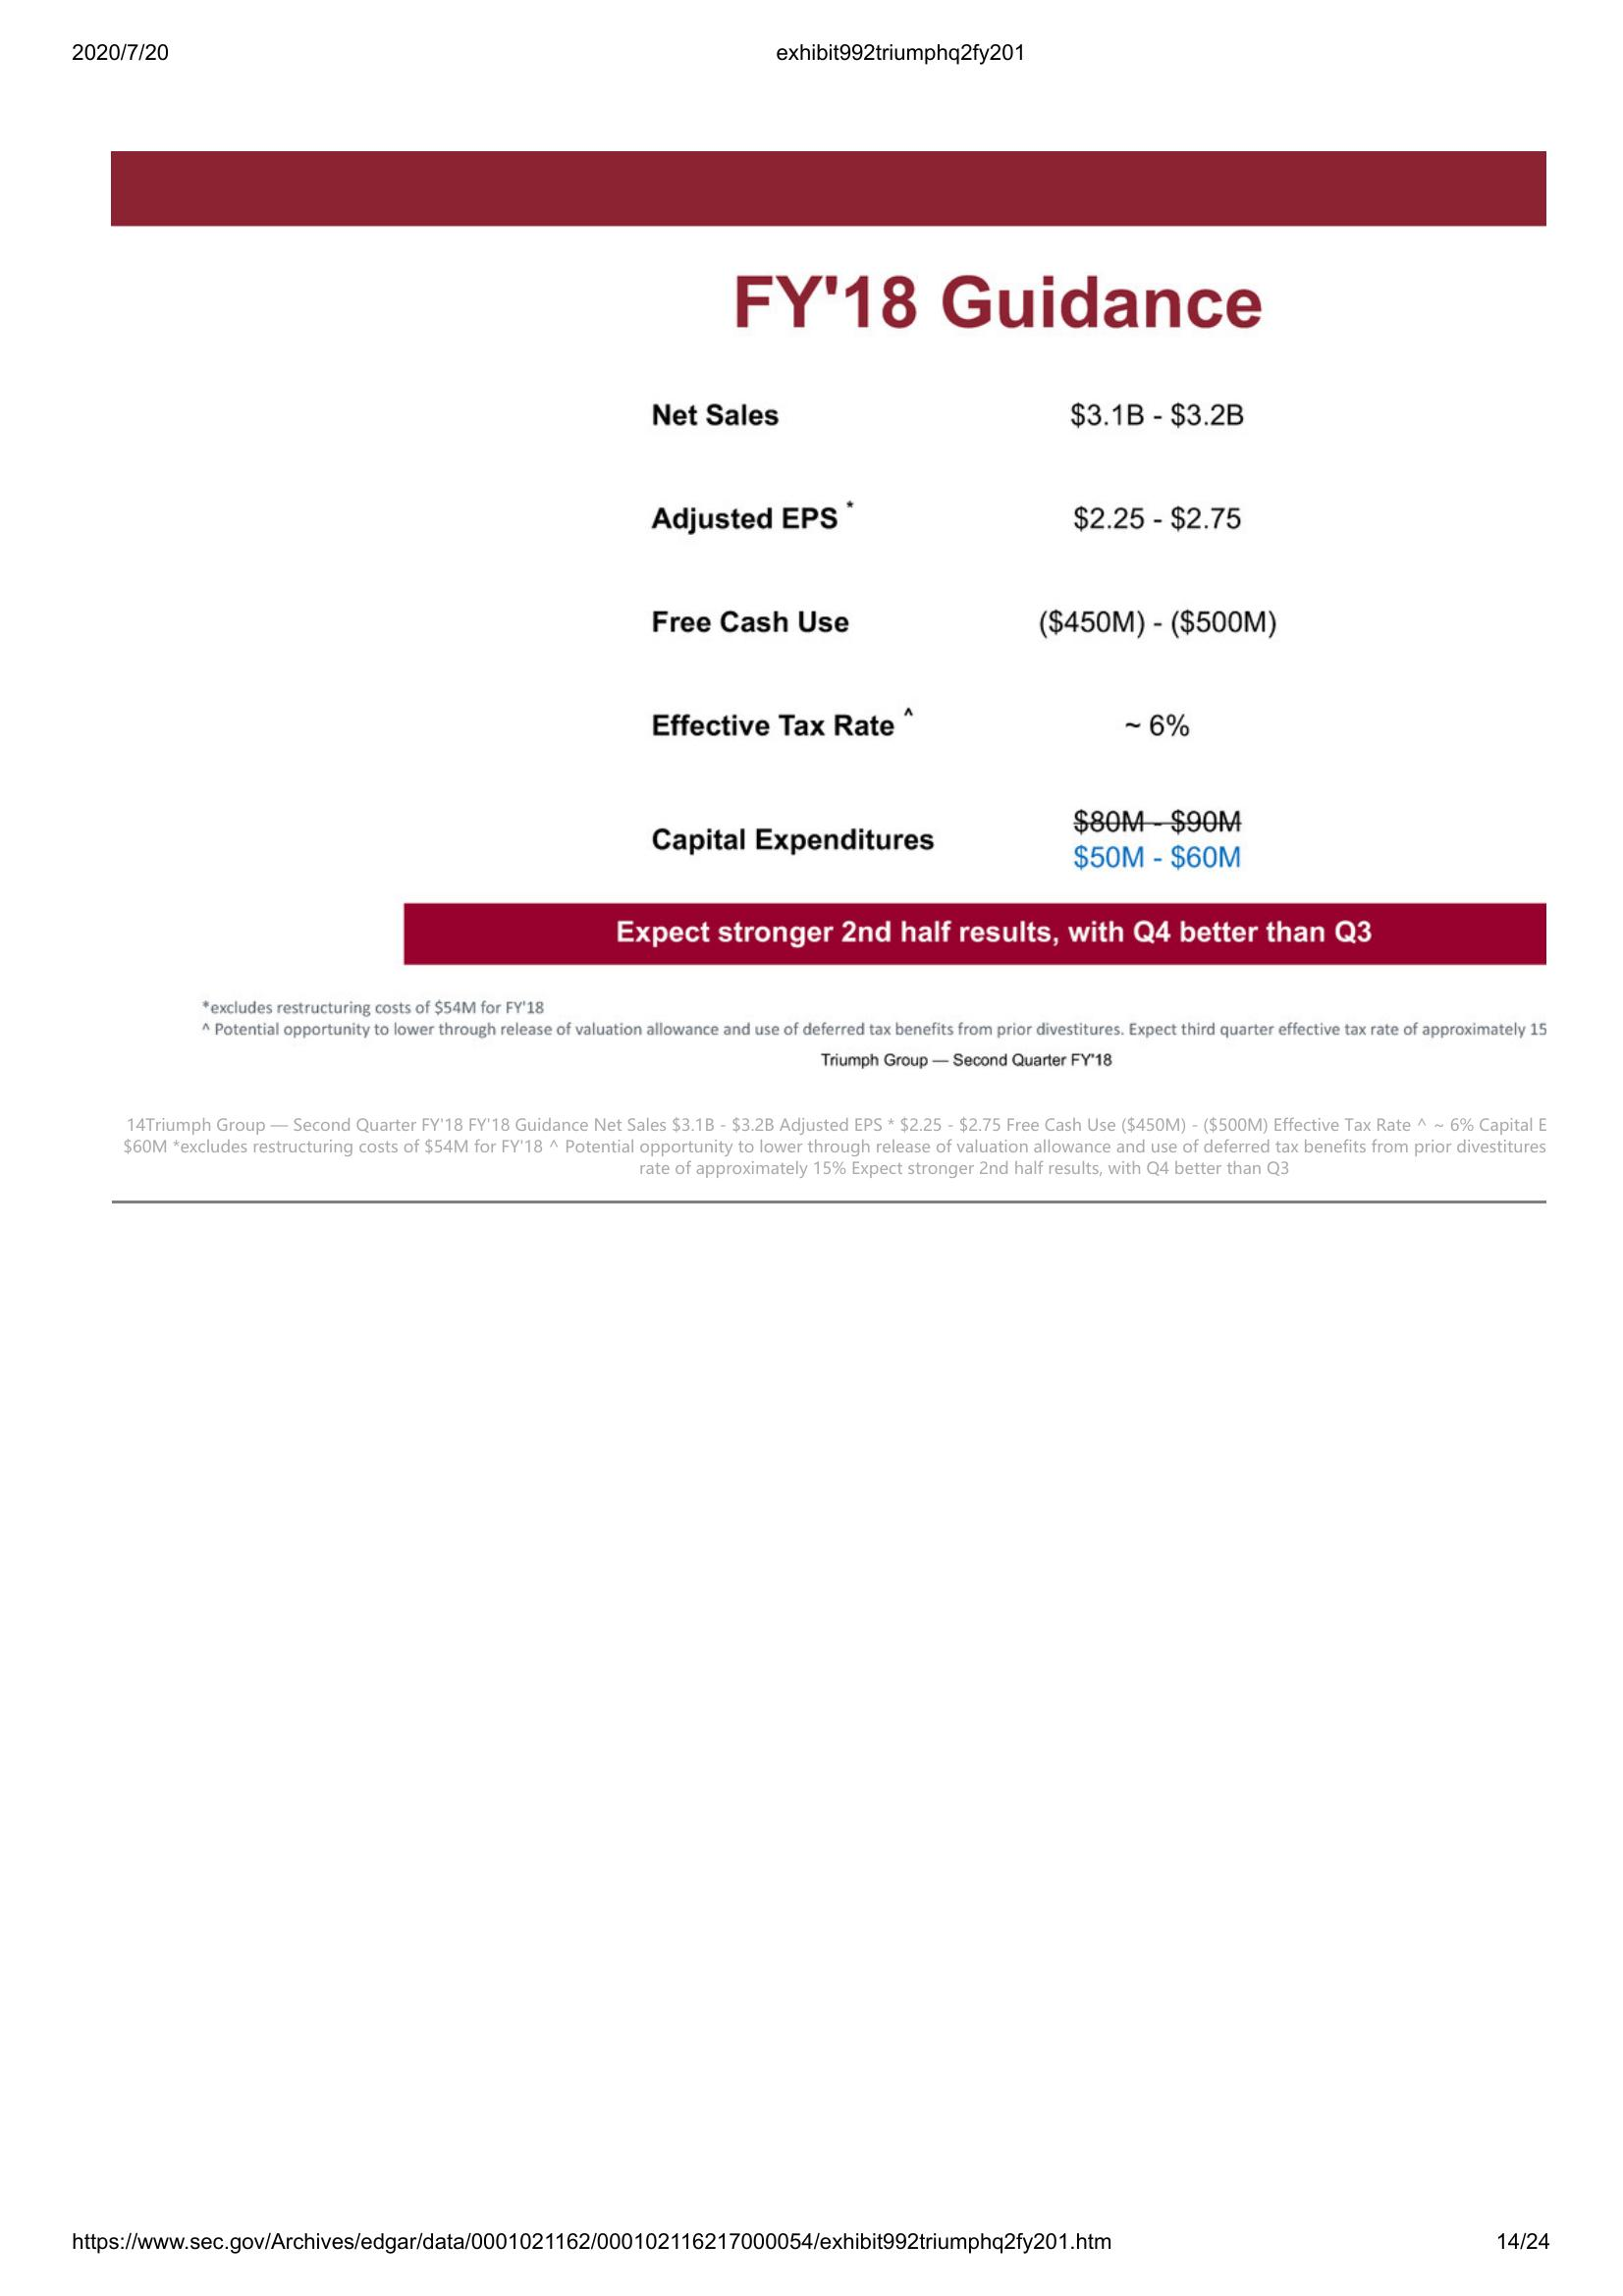table: (645, 372, 1284, 878)
